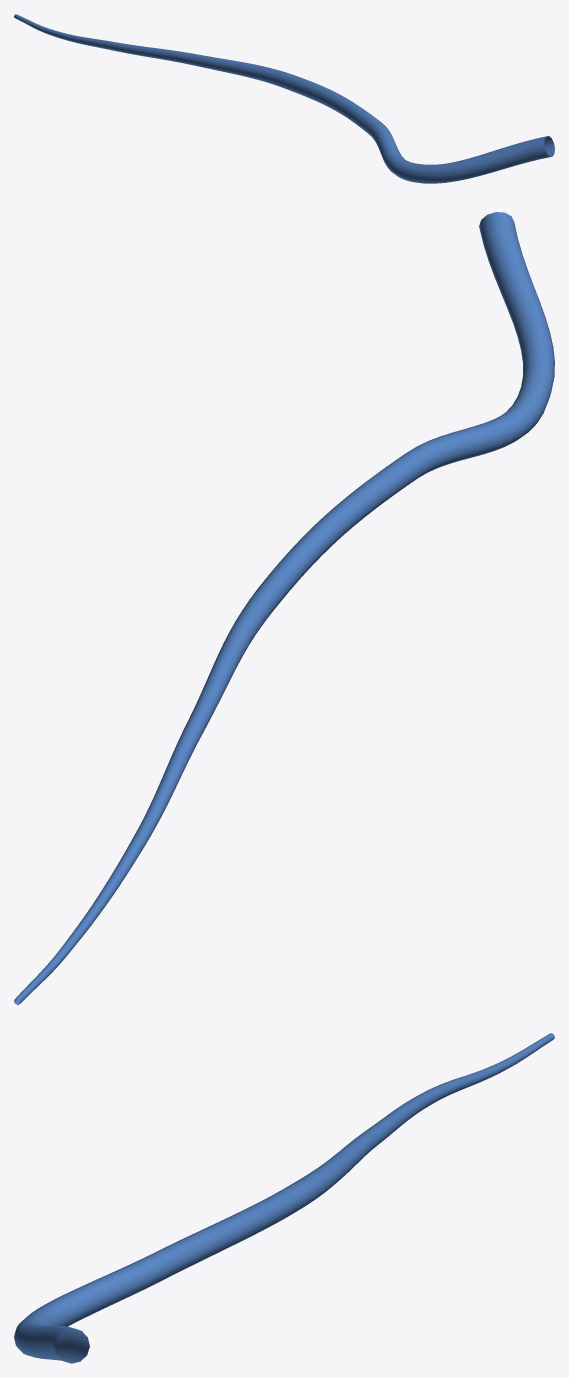
3 renders of one model, top to bottom at view 1: azimuth 30°, elevation 25°; view 2: azimuth 150°, elevation 25°; view 3: azimuth 330°, elevation 25°, orthographic. The views are drawn at different scales.
Visible parts, largest first — view 1: 右侧胸背静脉; view 2: 右侧胸背静脉; view 3: 右侧胸背静脉.
Part boxes in pixels (<box>): 右侧胸背静脉: <box>14,14,554,183</box>; 右侧胸背静脉: <box>14,212,554,1004</box>; 右侧胸背静脉: <box>14,1033,554,1363</box>.
Size of the model in its own units: 0.0304 by 0.0345 by 0.1693.
